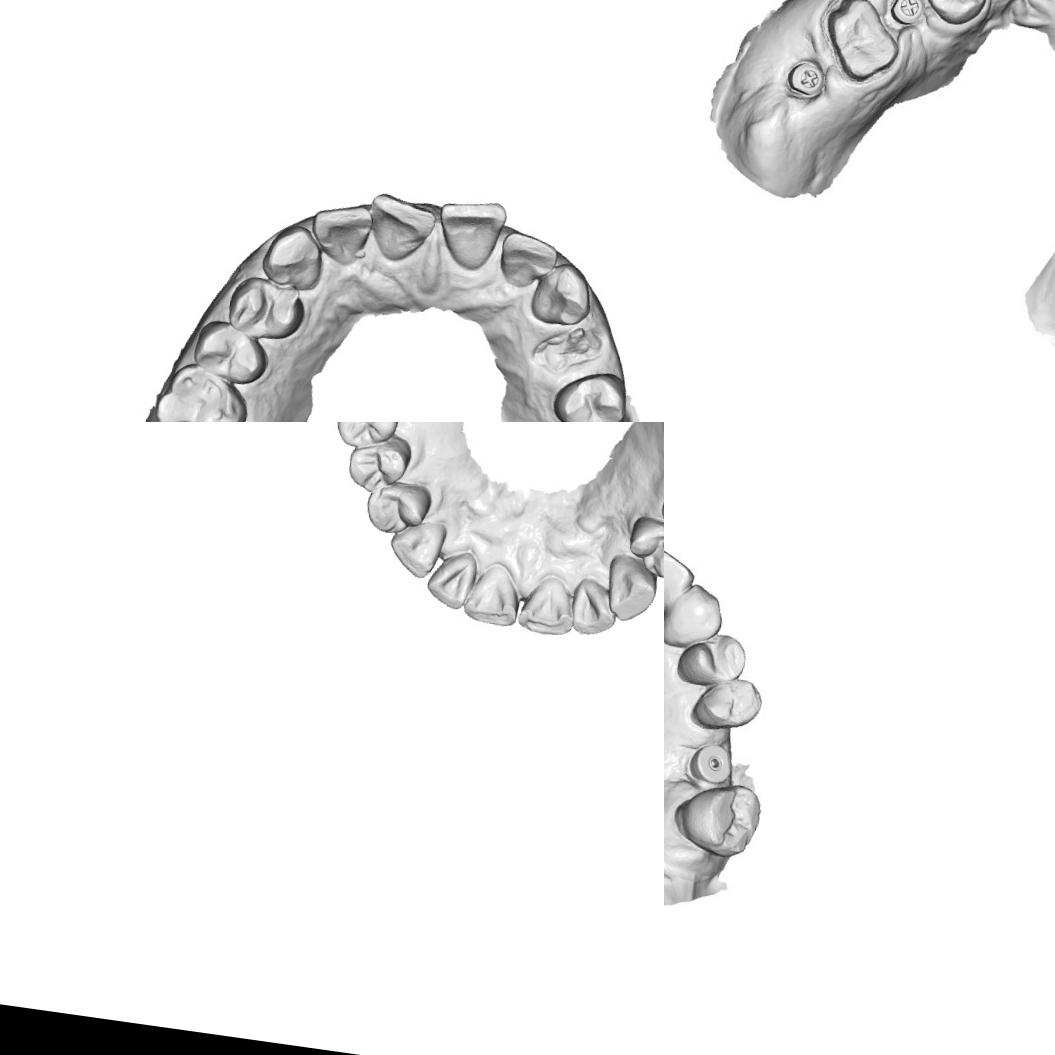canine: (257, 220, 328, 292), (526, 258, 596, 330), (664, 578, 728, 655), (602, 552, 661, 626), (386, 514, 448, 581)
crown: (818, 0, 905, 88)
implant: (690, 738, 736, 786)
implant_plus: (777, 54, 828, 100), (889, 0, 926, 30)
incisor: (362, 188, 442, 273), (431, 194, 510, 278), (304, 198, 374, 267), (514, 571, 580, 640), (495, 228, 562, 294), (460, 560, 524, 628), (423, 546, 480, 613), (566, 576, 622, 640), (664, 546, 698, 615)
molar: (674, 777, 768, 862), (147, 358, 254, 422), (323, 422, 405, 454)
premolar: (222, 273, 308, 346), (188, 317, 272, 389), (690, 669, 767, 739), (546, 363, 632, 422), (673, 630, 746, 697), (344, 430, 414, 498), (362, 476, 434, 538), (624, 513, 664, 581), (912, 0, 991, 29)
